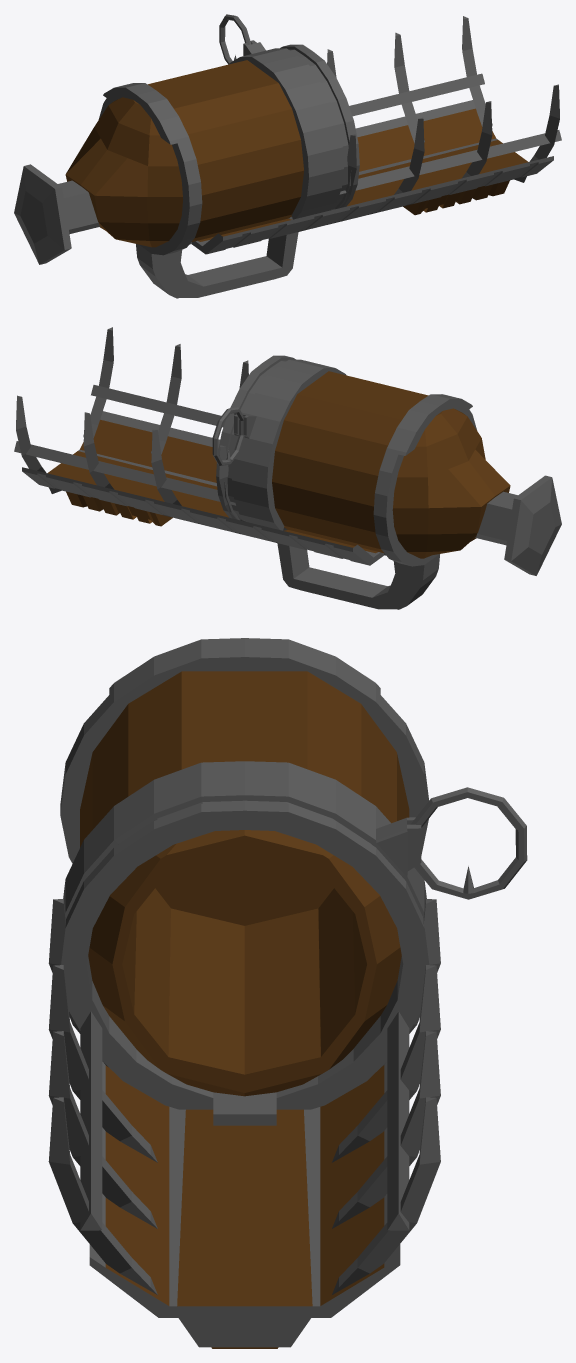
File: Bigboy_Launcher.fbx
The picture shows the model from 3 angles, top to bottom: view 1: azimuth 30°, elevation 25°; view 2: azimuth 150°, elevation 25°; view 3: azimuth 270°, elevation 25°; orthographic projection. The views are drawn at different scales.
Visible parts, largest first — view 1: Sphere, Cube, Cube.001, Cylinder.002, Cylinder.003, Cylinder.001, Torus; view 2: Sphere, Cube, Cube.001, Cylinder.002, Cylinder.003, Cylinder.001, Torus; view 3: Sphere, Cube, Cube.001, Cylinder.002, Cylinder, Torus.
Boxes of the visible parts, bbox=[...] form: Sphere: bbox=[65, 60, 303, 247]; Cube: bbox=[98, 40, 359, 298]; Cube.001: bbox=[192, 100, 553, 254]; Cylinder.002: bbox=[327, 16, 561, 210]; Cylinder.003: bbox=[14, 164, 100, 264]; Cylinder.001: bbox=[403, 180, 509, 215]; Torus: bbox=[219, 14, 251, 64]; Sphere: bbox=[272, 371, 510, 558]; Cube: bbox=[216, 355, 477, 609]; Cube.001: bbox=[22, 411, 383, 565]; Cylinder.002: bbox=[14, 327, 248, 521]; Cylinder.003: bbox=[475, 475, 561, 575]; Cylinder.001: bbox=[66, 491, 172, 526]; Torus: bbox=[212, 407, 244, 465]; Sphere: bbox=[80, 671, 409, 1096]; Cube: bbox=[60, 638, 429, 1125]; Cube.001: bbox=[89, 1061, 400, 1317]; Cylinder.002: bbox=[48, 898, 440, 1294]; Cylinder: bbox=[178, 1318, 310, 1347]; Torus: bbox=[410, 787, 527, 899].
Bounding box in the file's own units: 119 × 49.45 × 50.82.
